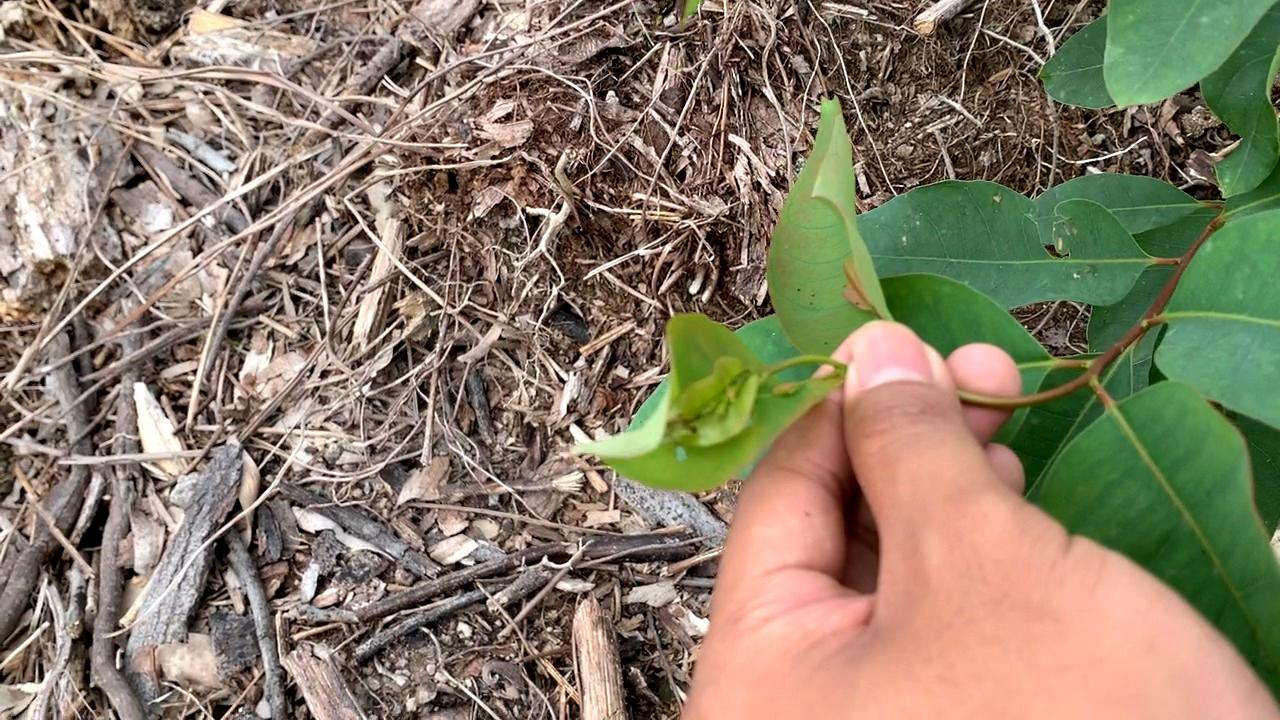Leaf Roller - Leaf: (600, 313, 835, 498)
